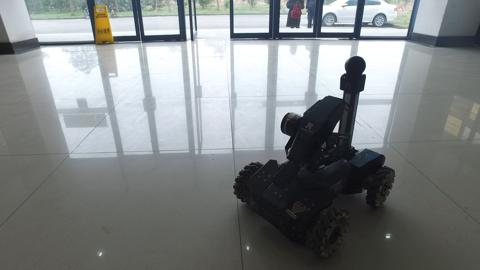car: (304, 1, 398, 28)
chariot: (231, 54, 396, 258)
